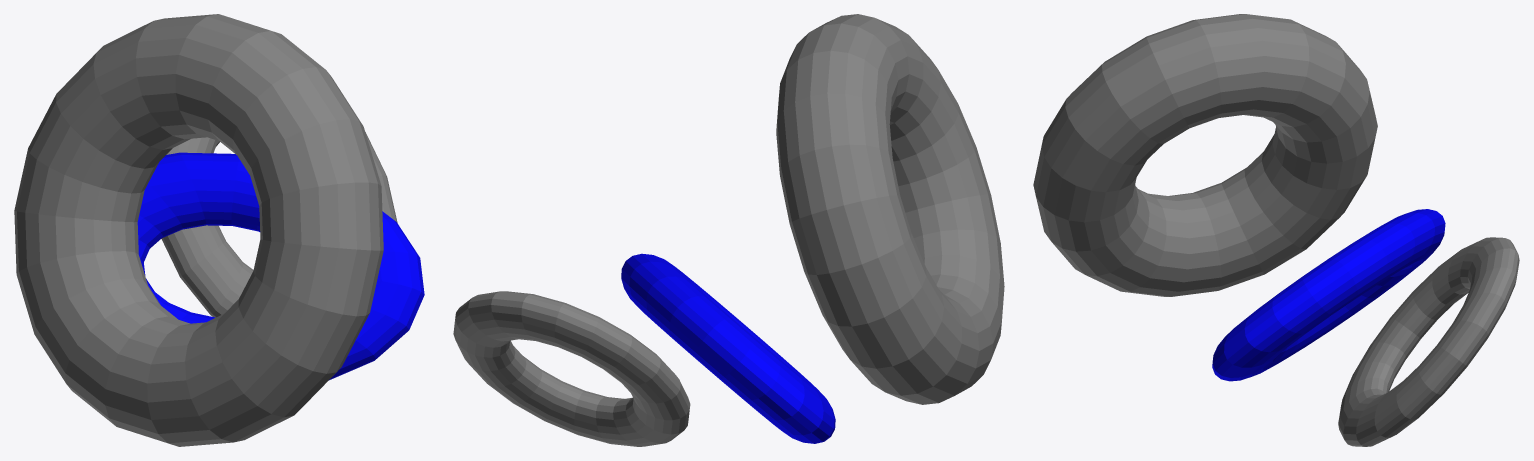
The model's file is effect_lambert_diffuse_texture.dae.
3 renders of one model, left to right at view 1: azimuth 30°, elevation 25°; view 2: azimuth 150°, elevation 25°; view 3: azimuth 270°, elevation 25°, orthographic. The views are drawn at different scales.
Visible parts, largest first — view 1: pTorus3, pTorus1, pTorus2; view 2: pTorus3, pTorus2, pTorus1; view 3: pTorus3, pTorus2, pTorus1.
Part boxes in pixels (box(x1,y1,x2,y2)): pTorus3: box(14, 14, 383, 446); pTorus1: box(137, 152, 424, 380); pTorus2: box(161, 132, 397, 317); pTorus3: box(776, 14, 1004, 404); pTorus2: box(453, 291, 690, 446); pTorus1: box(621, 253, 835, 443); pTorus3: box(1033, 14, 1377, 296); pTorus2: box(1338, 237, 1519, 446); pTorus1: box(1212, 209, 1445, 381).
Size of the model in its own units: 308 by 283 by 357.
Materials: 2 (1 with a texture image).
